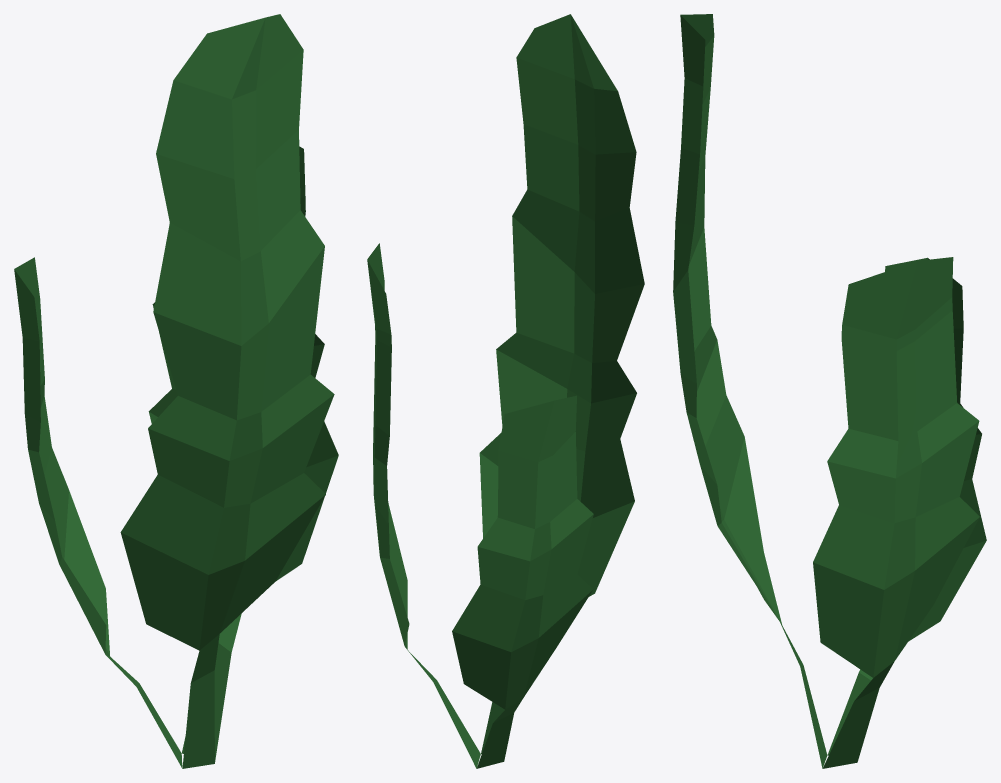
The model's file is grass-sea.glb.
The picture shows the model from 3 angles, left to right: view 1: azimuth 30°, elevation 25°; view 2: azimuth 150°, elevation 25°; view 3: azimuth 270°, elevation 25°; orthographic projection. The views are drawn at different scales.
Visible parts, largest first — view 1: grass-sea; view 2: grass-sea; view 3: grass-sea.
Part boxes in pixels (x1,y1,x2,y2): grass-sea: [14, 14, 338, 768]; grass-sea: [367, 14, 644, 768]; grass-sea: [673, 14, 986, 768].
Bounding box in the file's own units: 0.7068 × 2.01 × 0.7695.
Materials: 1 (1 with a texture image).
